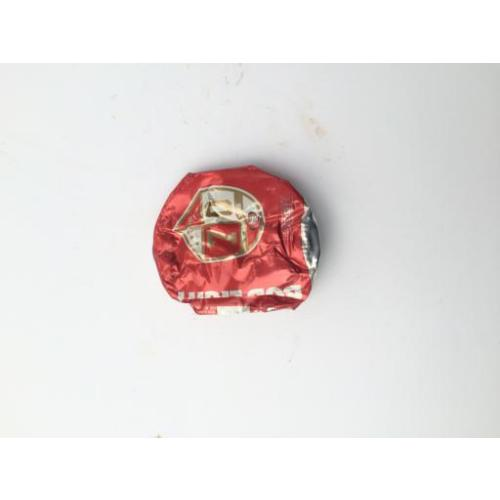metal: (152, 167, 317, 312)
